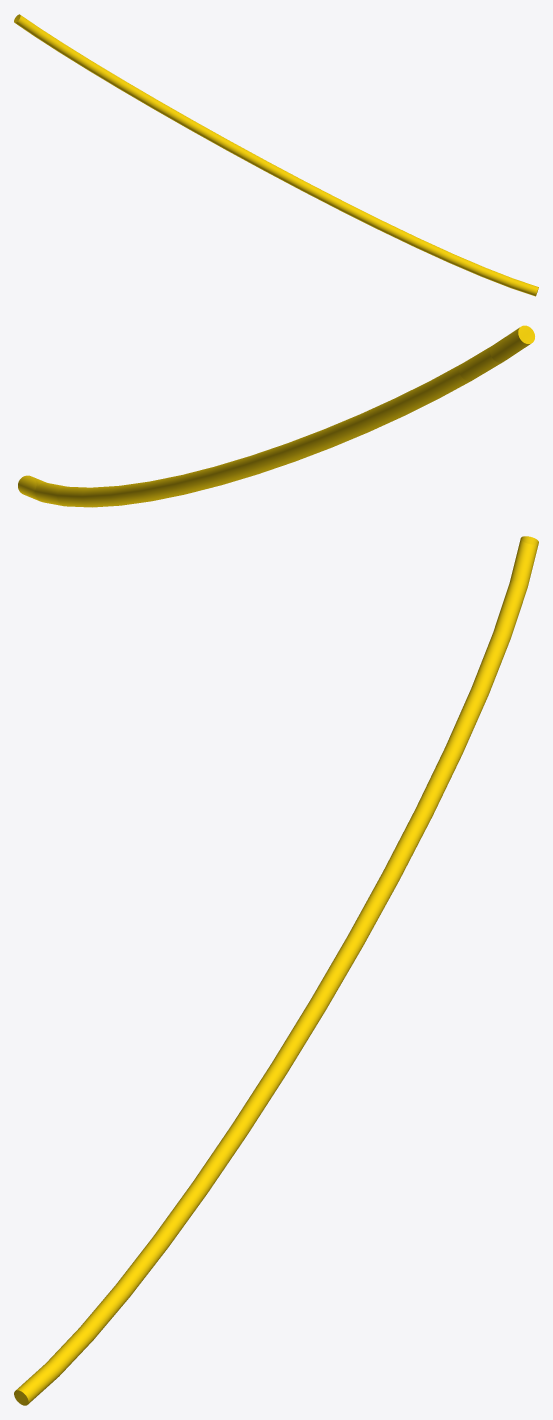
File: Event_421364160_track_9.fbx
3 views of the same model, one above another, from view 1: azimuth 30°, elevation 25°; view 2: azimuth 150°, elevation 25°; view 3: azimuth 270°, elevation 25° (orthographic). The views are drawn at different scales.
Visible parts, largest first — view 1: Model; view 2: Model; view 3: Model.
Part boxes in pixels (bbox=[...]): Model: bbox=[14, 14, 538, 296]; Model: bbox=[18, 325, 534, 507]; Model: bbox=[14, 536, 538, 1405].
Bounding box in the file's own units: 1.81 × 1.22 × 1.12.
